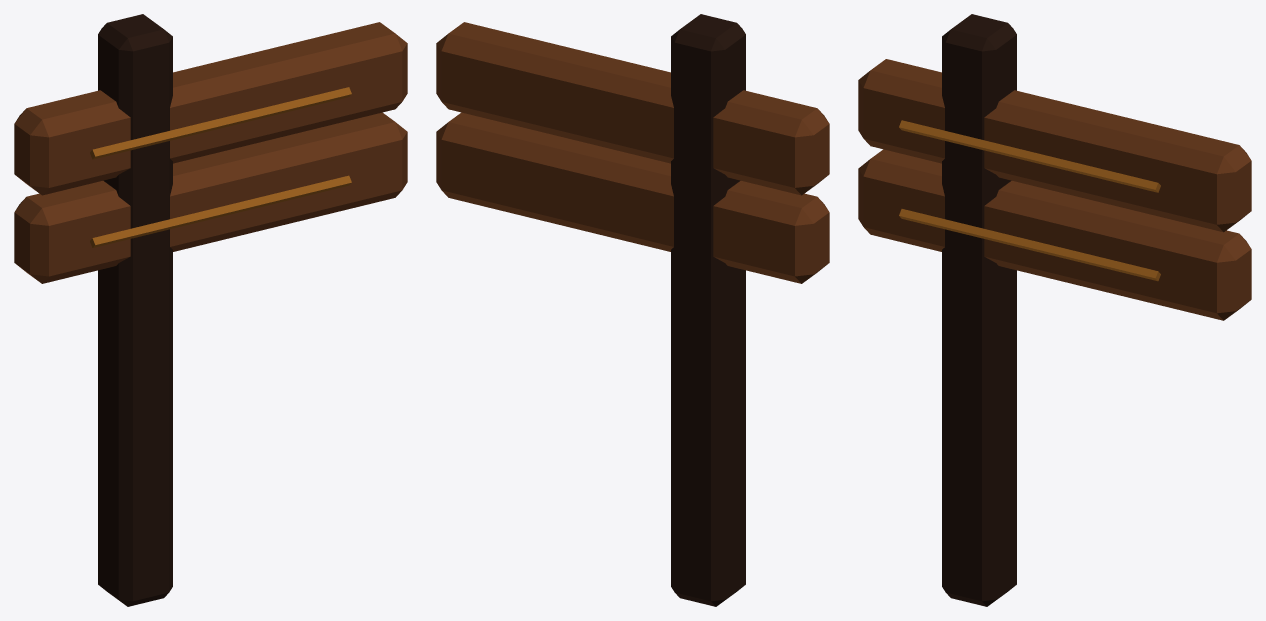
The model's file is Placa_de_caminho_LOD0.fbx.
The picture shows the model from 3 angles, left to right: view 1: azimuth 30°, elevation 25°; view 2: azimuth 150°, elevation 25°; view 3: azimuth 330°, elevation 25°; orthographic projection.
Parts seen in each view (by area): view 1: Placa_de_caminho_LOD0; view 2: Placa_de_caminho_LOD0; view 3: Placa_de_caminho_LOD0.
Part boxes in pixels (x1,y1,x2,y2): Placa_de_caminho_LOD0: (14,14,407,606); Placa_de_caminho_LOD0: (436,14,829,606); Placa_de_caminho_LOD0: (858,14,1251,606).
Bounding box in the file's own units: 125 × 180 × 20.6.
Materials: 1 (1 with a texture image).
